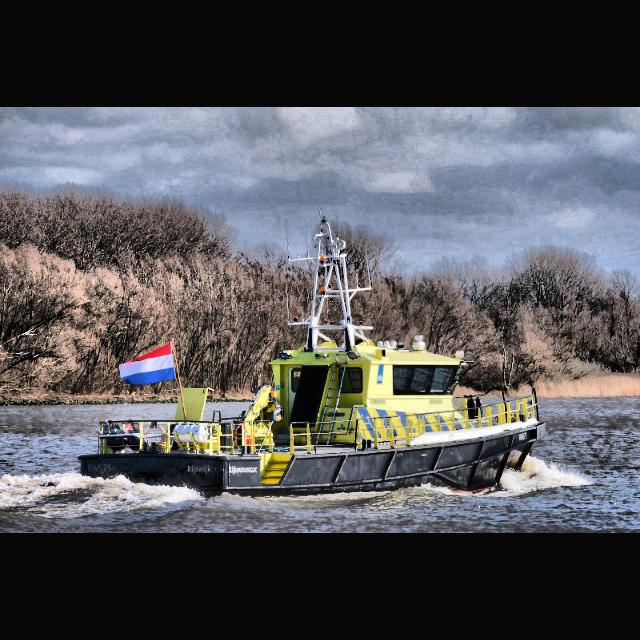patrol_vessel: (74, 298, 552, 500)
